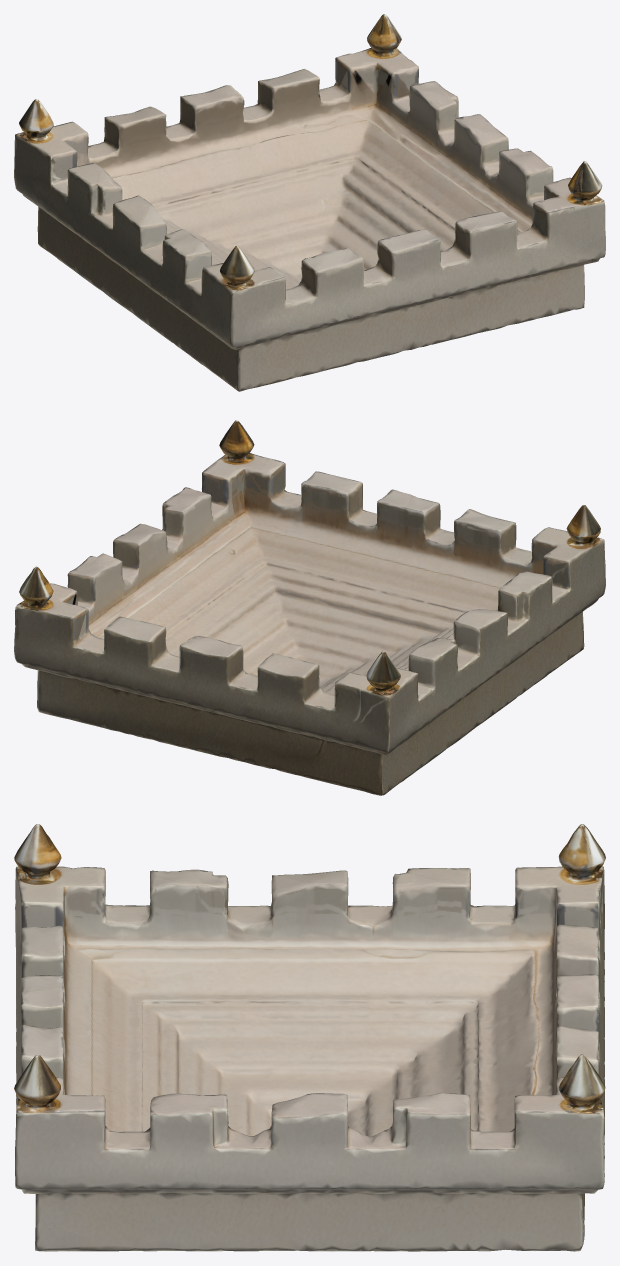
Rendered from 롯데_성상단.glb.
3 renders of one model, top to bottom at view 1: azimuth 30°, elevation 25°; view 2: azimuth 150°, elevation 25°; view 3: azimuth 270°, elevation 25°, orthographic. The views are drawn at different scales.
Visible parts, largest first — view 1: texture_mapping; view 2: texture_mapping; view 3: texture_mapping.
Part boxes in pixels (x1,y1,x2,y2): texture_mapping: (14,14,605,391); texture_mapping: (14,420,605,795); texture_mapping: (14,824,605,1251).
Bounding box in the file's own units: 1 × 0.4455 × 1.
Materials: 1 (1 with a texture image).
